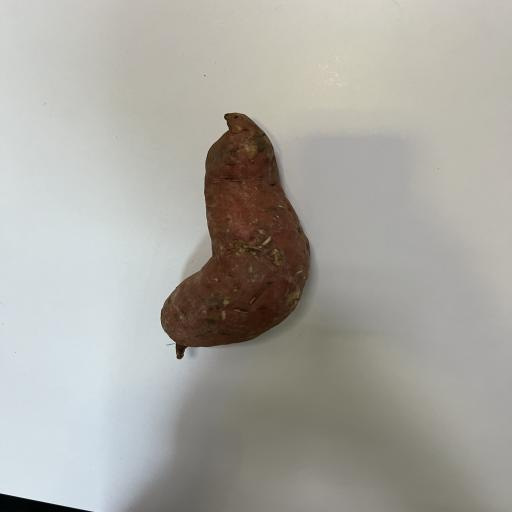sweet_potato: (124, 98, 333, 372)
